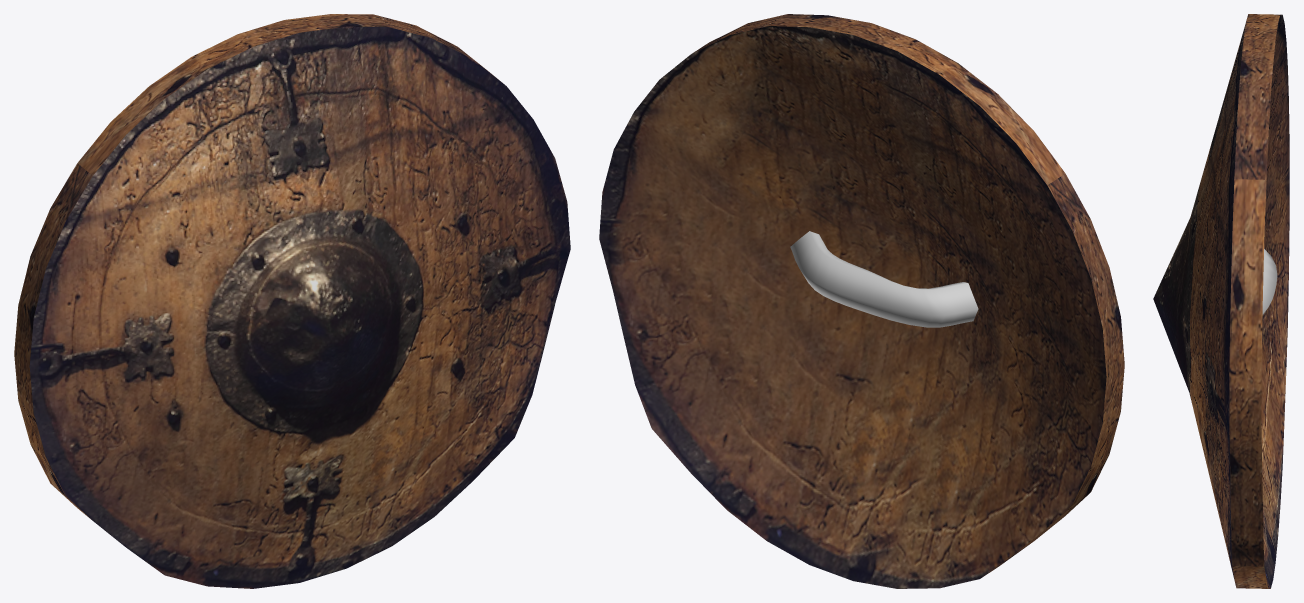
File: shield.dae
3 views of the same model, side by side, from view 1: azimuth 30°, elevation 25°; view 2: azimuth 150°, elevation 25°; view 3: azimuth 270°, elevation 25° (orthographic). The views are drawn at different scales.
Visible parts, largest first — view 1: Cylinder; view 2: Cylinder, Loft; view 3: Cylinder, Loft.
Part boxes in pixels (x1,y1,x2,y2): Cylinder: (14, 14, 570, 588); Cylinder: (599, 14, 1124, 588); Loft: (790, 231, 978, 327); Cylinder: (1153, 14, 1289, 588); Loft: (1262, 249, 1277, 314).
Size of the model in its own units: 727 by 724 by 171.
